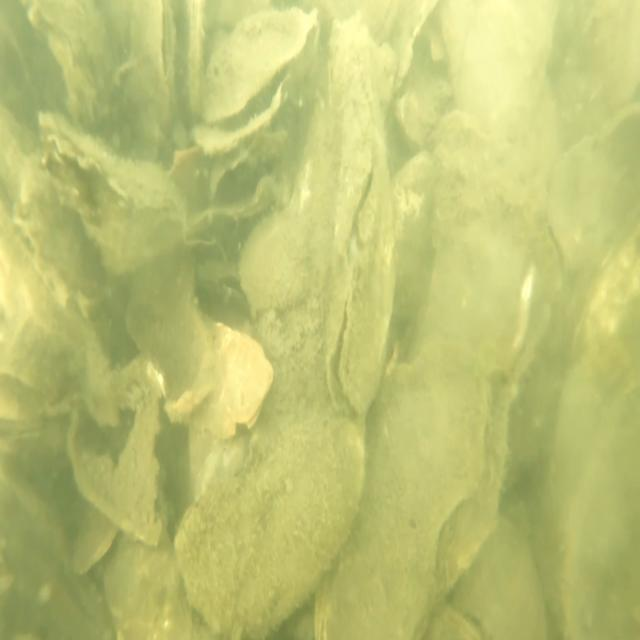Oyster-Closed: (316, 335, 507, 640), (36, 110, 182, 274), (167, 311, 275, 437), (20, 0, 118, 122), (128, 0, 178, 140)
Oyster-Indeterminate: (175, 419, 366, 640), (241, 111, 335, 311), (99, 525, 191, 640)
Oyster-Open: (324, 63, 396, 425), (190, 6, 320, 151), (203, 128, 292, 225)
